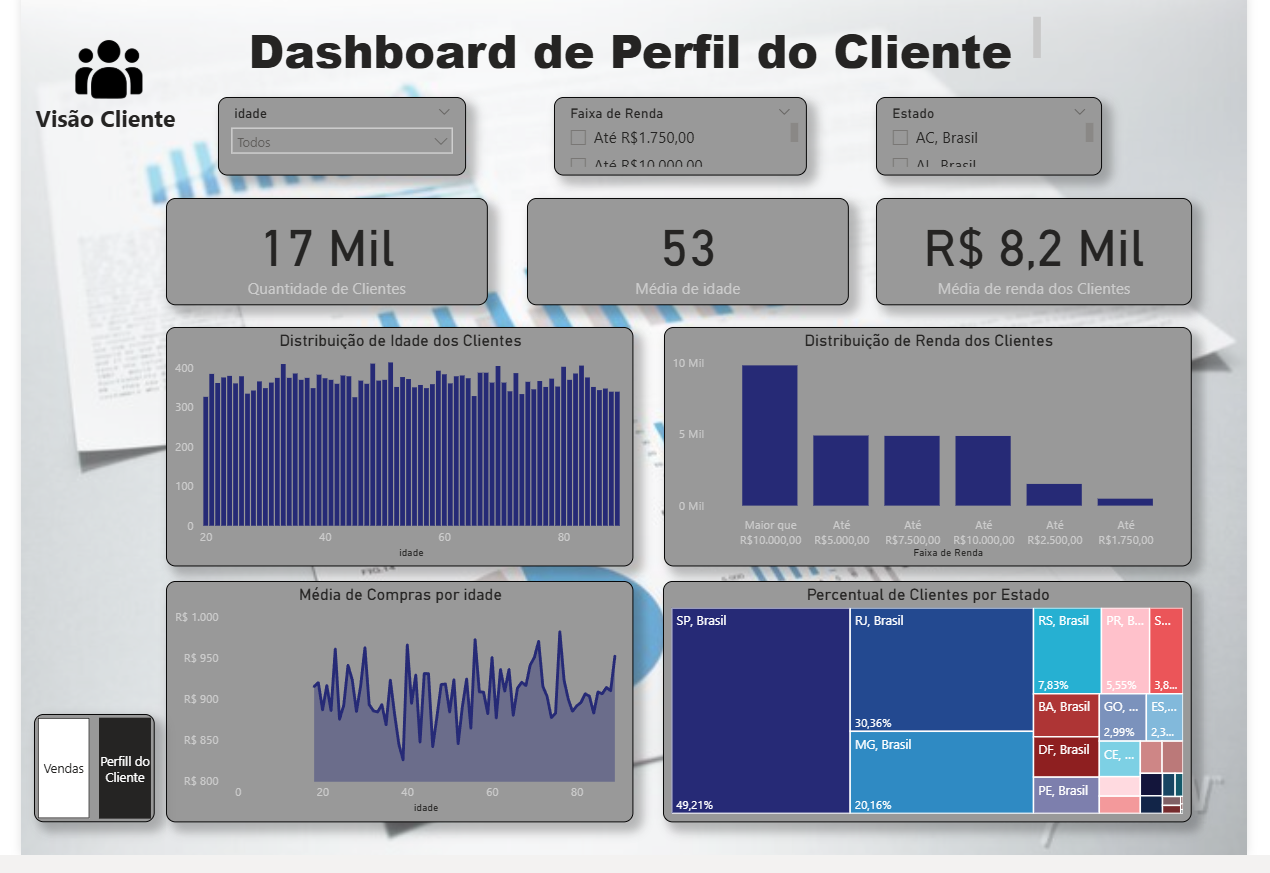

This screenshot's page, from the dashboard's own definition file:
{"tool":"powerbi","page":{"name":"Perfill do Cliente","canvas":[1280,900],"ordinal":1},"visuals":[{"type":"image","box":[39,94.4,87.2,88.2],"z":0},{"type":"textbox","box":[210,20,860.1,64.3],"z":1000},{"type":"textbox","box":[13.3,174.4,138.5,79],"z":2000},{"type":"card","fields":{"Values":["Count(Base cliente.cliente_Log)"]},"box":[151.8,213.9,335.8,111.9],"z":3000},{"type":"card","fields":{"Values":["Avg(Base cliente.renda)"]},"box":[892.2,213.9,330.3,111.9],"z":4000},{"type":"slicer","fields":{"Values":["Base cliente.idade"]},"box":[206.2,108.6,259.4,82],"z":5000},{"type":"slicer","fields":{"Values":["Base cliente.Faixa de Renda"]},"box":[556.4,108.6,263.8,82],"z":6000},{"type":"slicer","fields":{"Values":["Base cliente.Estado"]},"box":[892.2,108.6,236.1,82],"z":7000},{"type":"columnChart","title":"Distribuição de Idade dos Clientes","fields":{"Category":["Base cliente.idade"],"Y":["CountNonNull(Base cliente.cliente_Log)"]},"box":[151.8,349.1,487.7,250.5],"z":8000},{"type":"columnChart","title":"Distribuição de Renda dos Clientes","fields":{"Category":["Base cliente.Faixa de Renda"],"Y":["CountNonNull(Base cliente.Faixa de Renda)"]},"box":[671.7,349.1,550.9,250.5],"z":9000},{"type":"areaChart","fields":{"Category":["Base cliente.idade"],"Y":["Avg(base compra.Preço_com_frete)"]},"box":[151.8,614,487.7,251.6],"z":10000},{"type":"card","fields":{"Values":["Avg(Base cliente.idade)"]},"box":[528.7,213.9,335.8,111.9],"z":11000},{"type":"pageNavigator","box":[13.3,752.6,126.4,113.1],"z":12000},{"type":"treemap","fields":{"Group":["Base cliente.Estado"],"Values":["CountNonNull(Base cliente.cliente_Log)"]},"box":[670.6,614,552,251.6],"z":12001}]}

Visuals, with their boxes in screenshot pixels (x1, y1, x2, y2), scaled from the page's 1280x900 canvas onto the 1270x873 screenshot:
image: 39 92 125 177
textbox: 208 19 1062 82
textbox: 13 169 151 246
card - Count(Base cliente.cliente_Log): 151 207 484 316
card - Avg(Base cliente.renda): 885 207 1213 316
slicer - Base cliente.idade: 205 105 462 185
slicer - Base cliente.Faixa de Renda: 552 105 814 185
slicer - Base cliente.Estado: 885 105 1119 185
"Distribuição de Idade dos Clientes" columnChart: 151 339 635 582
"Distribuição de Renda dos Clientes" columnChart: 666 339 1213 582
areaChart - Base cliente.idade x Avg(base compra.Preço_com_frete): 151 596 635 840
card - Avg(Base cliente.idade): 525 207 858 316
pageNavigator: 13 730 139 840
treemap - Base cliente.Estado x CountNonNull(Base cliente.cliente_Log): 665 596 1213 840
